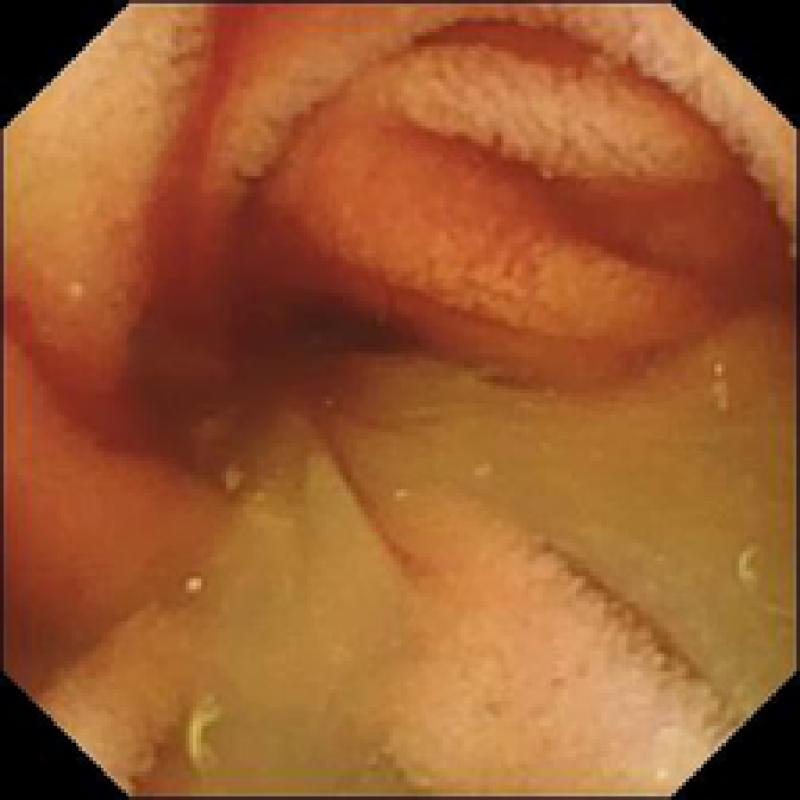bleeding: (14, 0, 450, 486), (457, 10, 800, 304)
